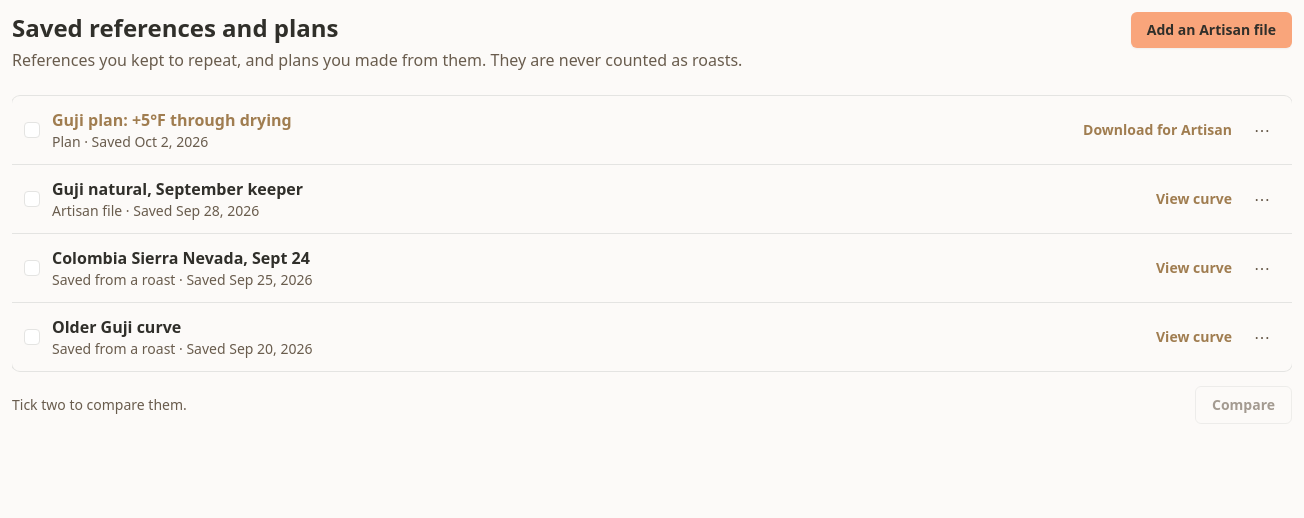
it: renaming › keeps the form open with the reason when the name cannot be saved
Click the button "⋯" in the row of "Guji natural, September keeper": (1262, 199) [1244, 181, 1280, 217]
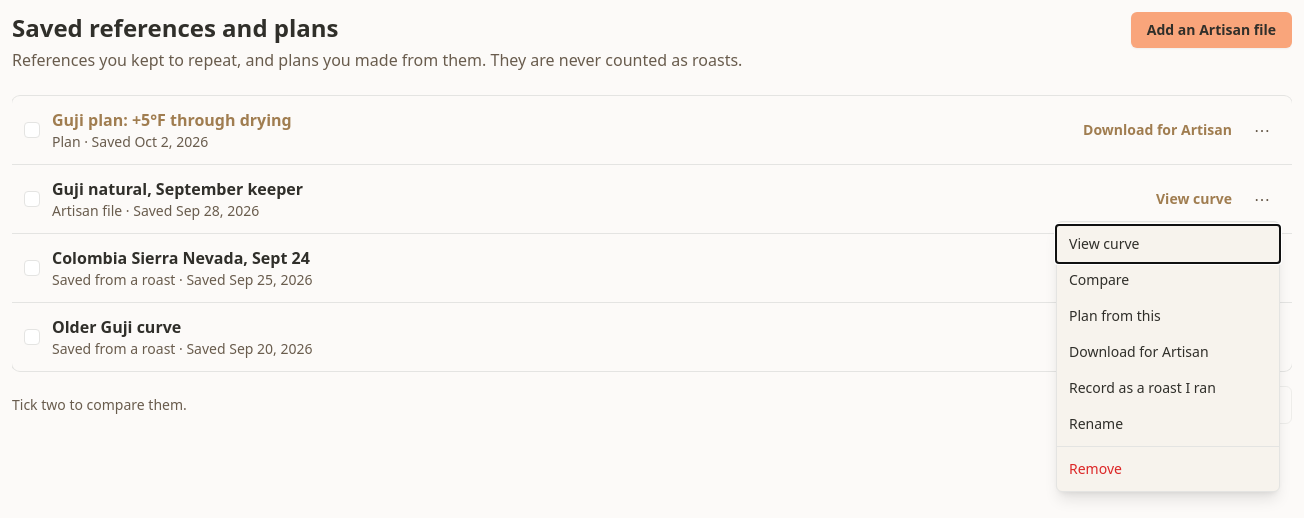
Click the menu item "Rename": (1168, 424) [1057, 406, 1279, 442]
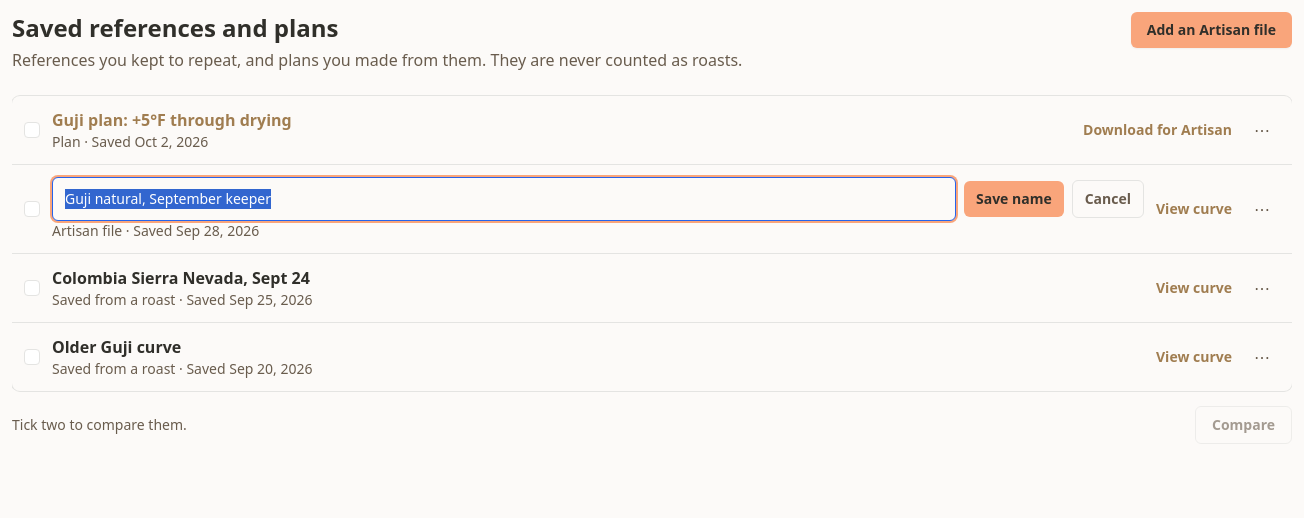
Replace the text in the field named "Name" with "New name": (504, 199) [52, 177, 956, 221]
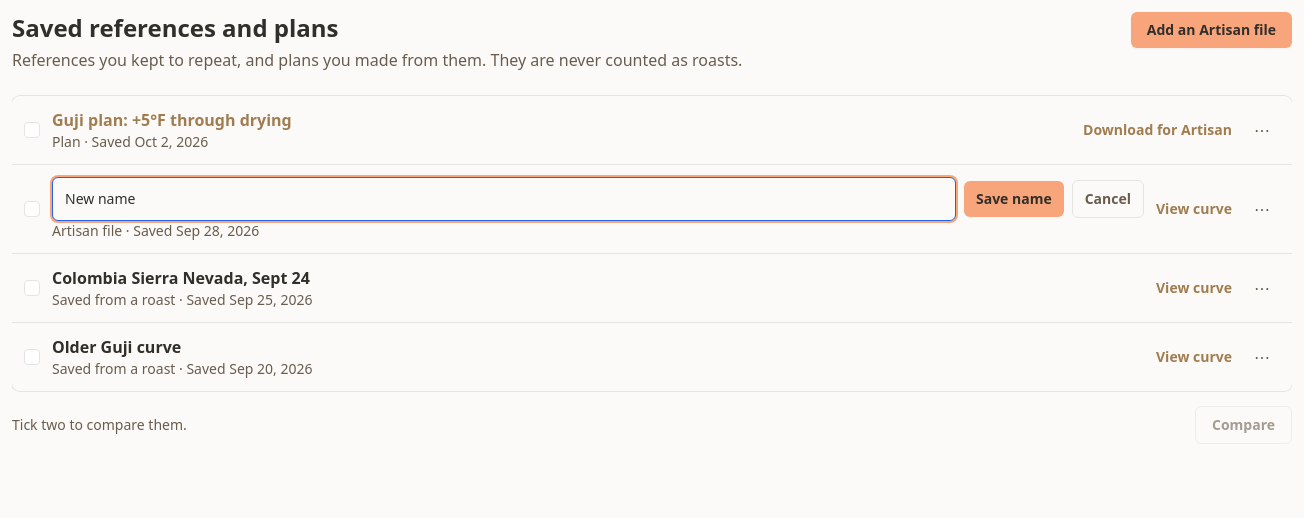
Click the button "Save name": (1014, 199) [964, 181, 1064, 217]
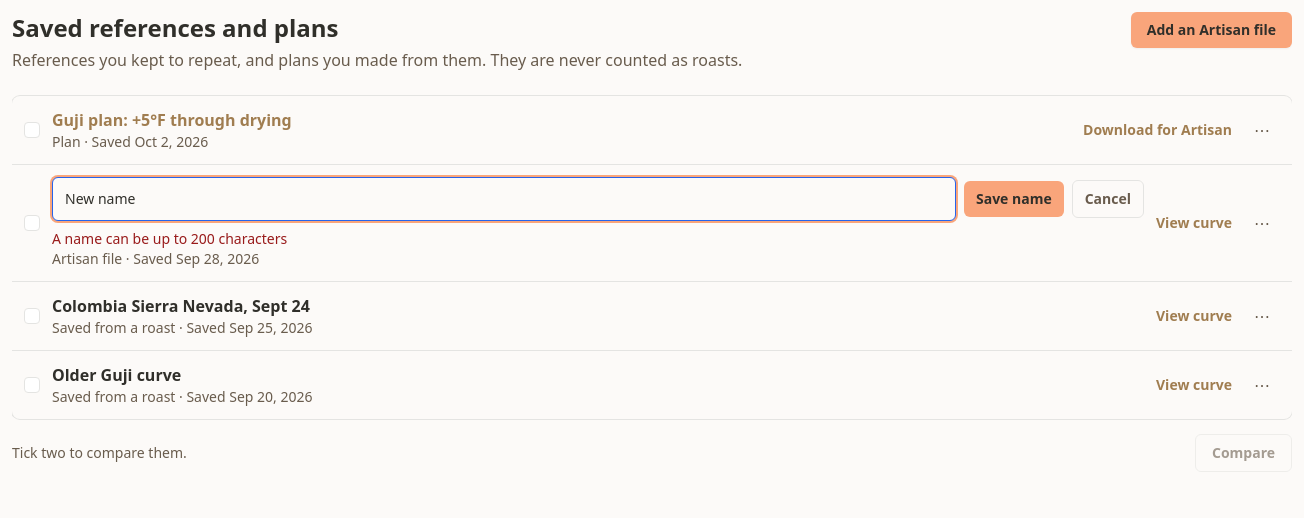
Expected: the button "Save name" is enabled, [964, 181, 1064, 217]
Expected: the message reads "A name can be up to 200 characters", [52, 229, 287, 248]
